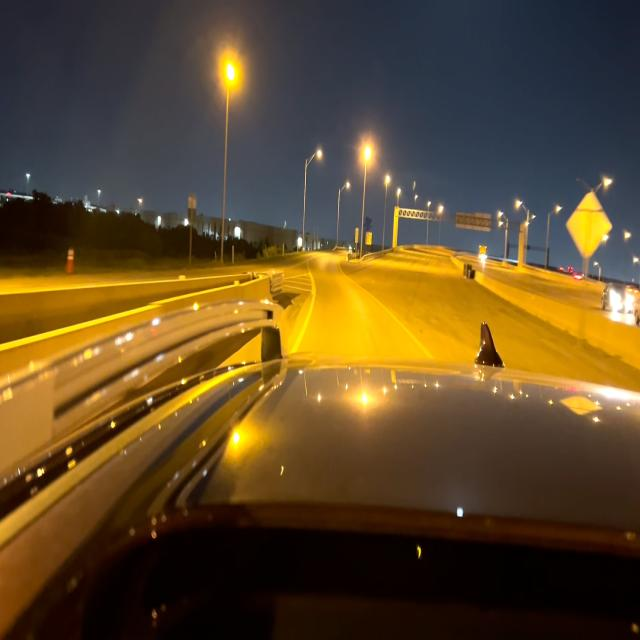back-of-sign: (565, 192, 613, 266)
